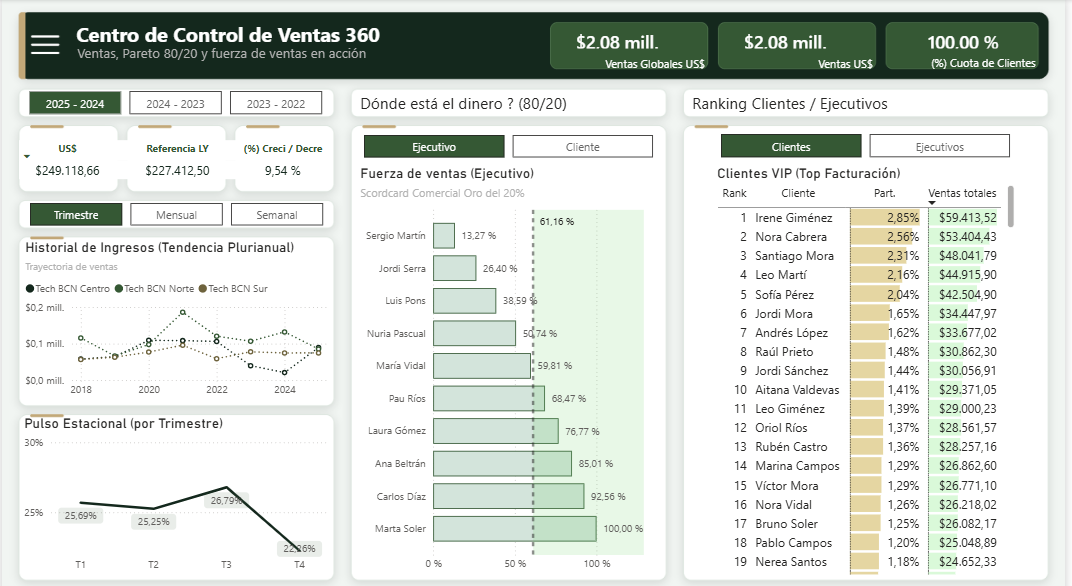

Layout of this report page (visuals, bound fields, positions):
{"tool":"powerbi","page":{"name":"Detalle de Ventas Global","canvas":[1280,720],"ordinal":1},"visuals":[{"type":"tableEx","fields":{"Values":["medidas_base_facturacion.ventas_totales","Medidas_Inteligencia_Tiempo.ventas_totales_ly","Medidas_Inteligencia_Tiempo.crecimiento_yoy"]},"box":[14.4,164.4,394.4,71.1],"z":2000},{"type":"textbox","box":[84.2,20.9,378.3,58.3],"z":3000},{"type":"textbox","box":[85.8,49.3,379.2,35.8],"z":4000},{"type":"cardVisual","fields":{"Data":["medidas_base_facturacion.ventas_totales"]},"box":[865,22,187,55],"z":5000},{"type":"cardVisual","fields":{"Data":["medidas_participacion_ranking.%_participacion_cliente"]},"box":[1086,22,143,55],"z":6000},{"type":"cardVisual","fields":{"Data":["medidas_base_facturacion.ventas_totales"]},"box":[662,22,187,55],"z":7000},{"type":"bookmarkNavigator","box":[32.2,111.1,355.6,28.9],"z":8000},{"type":"lineChart","title":"Historial de Ingresos (Tendencia Plurianual)","fields":{"Category":["Dim_Calendario.Año"],"Series":["Analisis_Ventas.Agencia"],"Y":["medidas_base_facturacion.ventas_totales"]},"box":[22.5,288.8,376.2,200],"z":9000},{"type":"lineChart","title":"Pulso Estacional (por Trimestre)","fields":{"Category":["Dim_Calendario.Trimestre"],"Y":["medidas_base_facturacion.ventas_totales"]},"box":[22.2,501.1,376.7,197.8],"z":10000},{"type":"bookmarkNavigator","box":[33.3,245.6,354.4,27.8],"z":13000},{"type":"clusteredBarChart","title":"Fuerza de ventas (Ejecutivo)","fields":{"Category":["Analisis_Ventas.Vendedor"],"Y":["medidas_participacion_ranking.%_acum_pareto_vendedor"]},"box":[425.7,200,368.6,498.6],"z":14000},{"type":"bookmarkNavigator","box":[435.7,164.3,348.6,27.1],"z":16000},{"type":"textbox","box":[425.7,107.1,368.6,38.6],"z":17000},{"type":"textbox","box":[825.7,107.1,431.4,35.7],"z":18000},{"type":"tableEx","title":"Clientes VIP (Top Facturación)","fields":{"Values":["medidas_participacion_ranking.ranking_venta_clientes","Analisis_Ventas.Cliente","Divide(medidas_base_facturacion.ventas_totales, ScopedEval(medidas_base_facturacion.ventas_totales, []))","medidas_base_facturacion.ventas_totales"]},"box":[855.7,200,368,498],"z":19000},{"type":"bookmarkNavigator","box":[865.7,162.9,348,28],"z":21000},{"type":"image","box":[32.5,38.3,39.2,33.3],"z":22000},{"type":"textbox","box":[721.1,63.3,142.2,33.3],"z":30000},{"type":"textbox","box":[977.8,63.3,82.2,33.3],"z":31000},{"type":"textbox","box":[1113.7,62.6,143.3,33.7],"z":32000}]}

Visuals, with their boxes in screenshot pixels (x1, y1, x2, y2), scaled from the page's 1280x720 canvas onto the 1072x586 screenshot:
tableEx - medidas_base_facturacion.ventas_totales x Medidas_Inteligencia_Tiempo.ventas_totales_ly: (12, 134, 342, 192)
textbox: (71, 17, 387, 64)
textbox: (72, 40, 389, 69)
cardVisual - medidas_base_facturacion.ventas_totales: (724, 18, 881, 63)
cardVisual - medidas_participacion_ranking.%_participacion_cliente: (910, 18, 1029, 63)
cardVisual - medidas_base_facturacion.ventas_totales: (554, 18, 711, 63)
bookmarkNavigator: (27, 90, 325, 114)
"Historial de Ingresos (Tendencia Plurianual)" lineChart: (19, 235, 334, 398)
"Pulso Estacional (por Trimestre)" lineChart: (19, 408, 334, 569)
bookmarkNavigator: (28, 200, 325, 223)
"Fuerza de ventas (Ejecutivo)" clusteredBarChart: (357, 163, 665, 569)
bookmarkNavigator: (365, 134, 657, 156)
textbox: (357, 87, 665, 119)
textbox: (692, 87, 1053, 116)
"Clientes VIP (Top Facturación)" tableEx: (717, 163, 1025, 568)
bookmarkNavigator: (725, 133, 1016, 155)
image: (27, 31, 60, 58)
textbox: (604, 52, 723, 79)
textbox: (819, 52, 888, 79)
textbox: (933, 51, 1053, 78)
